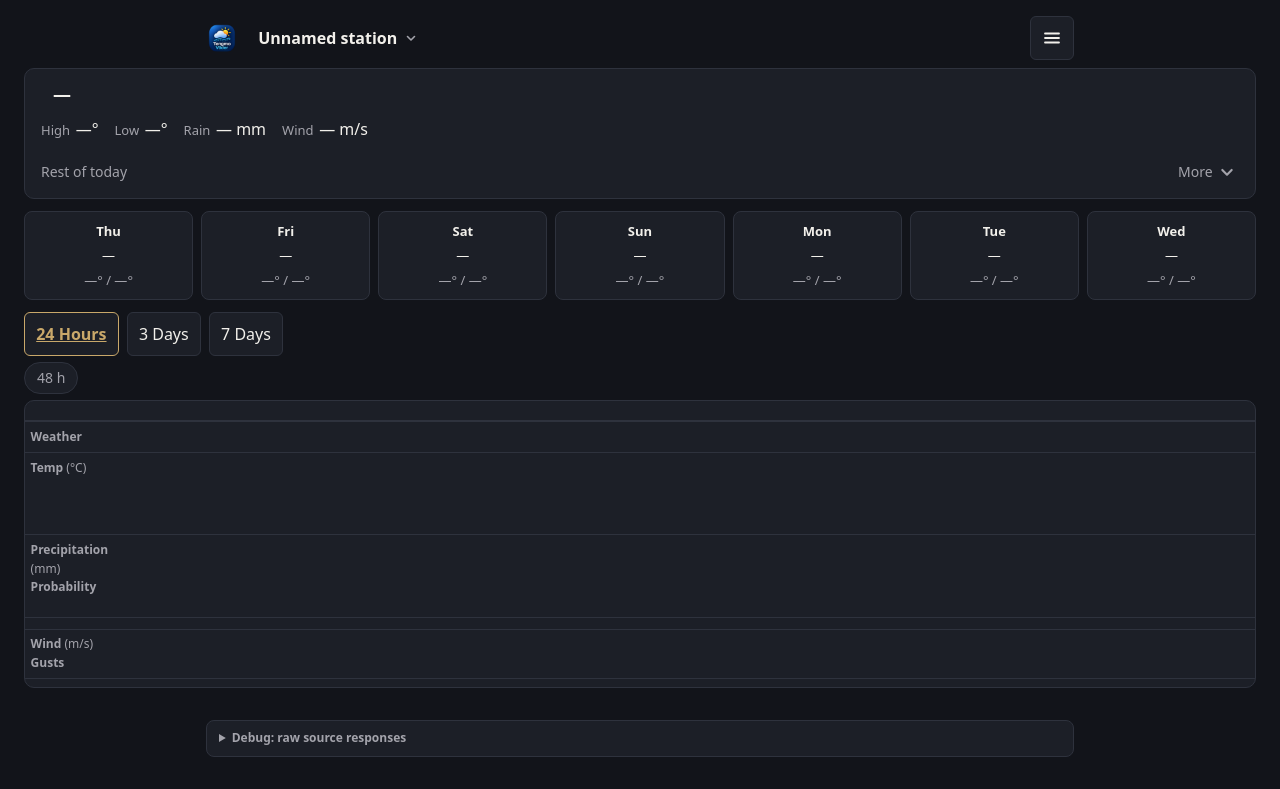
Test: Location Panel (013-overview-default-and-layout, US2) › selects a favorite from the panel, switches the app to it, and closes the panel
The image size is (1280, 789).
Click the button with aria-label "Change location".
click(338, 38)  # box x1=246 y1=16 x2=429 y2=60
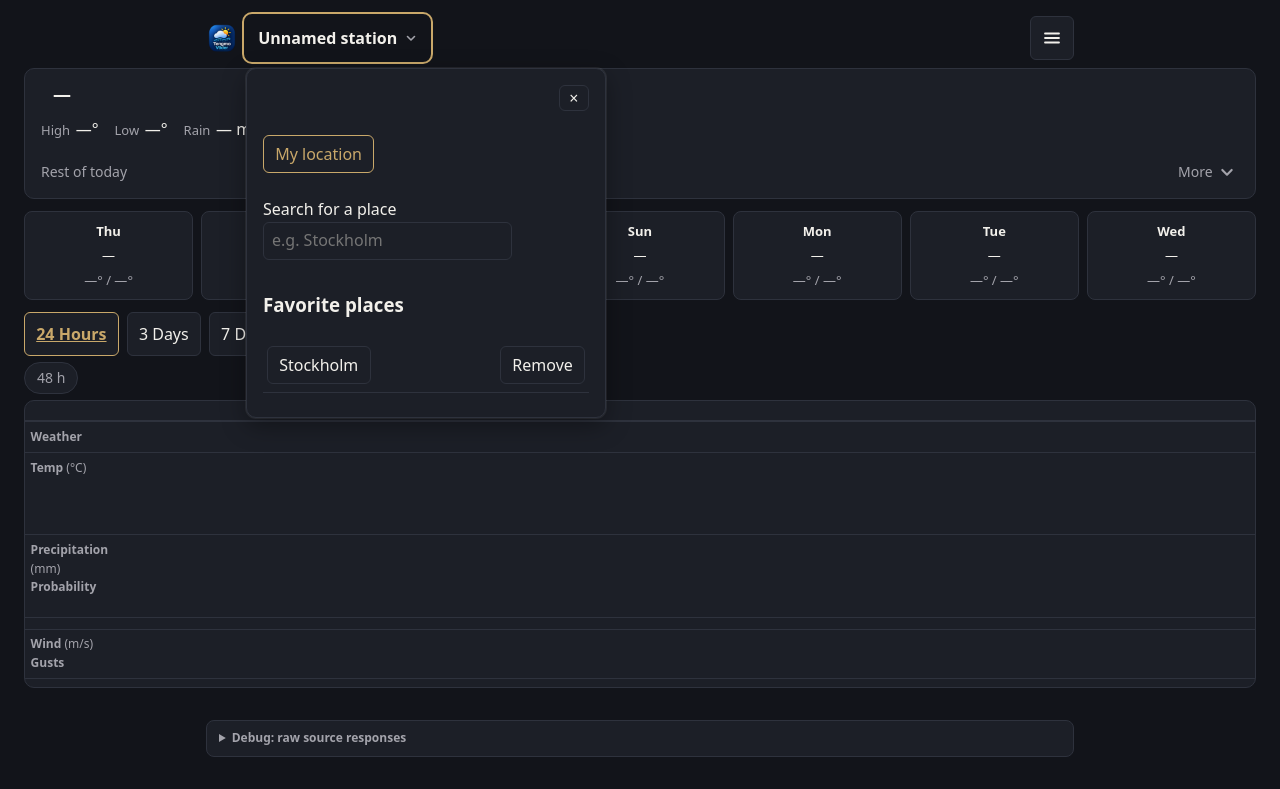
Click the button "Stockholm".
click(319, 365)  # box x1=267 y1=346 x2=370 y2=384
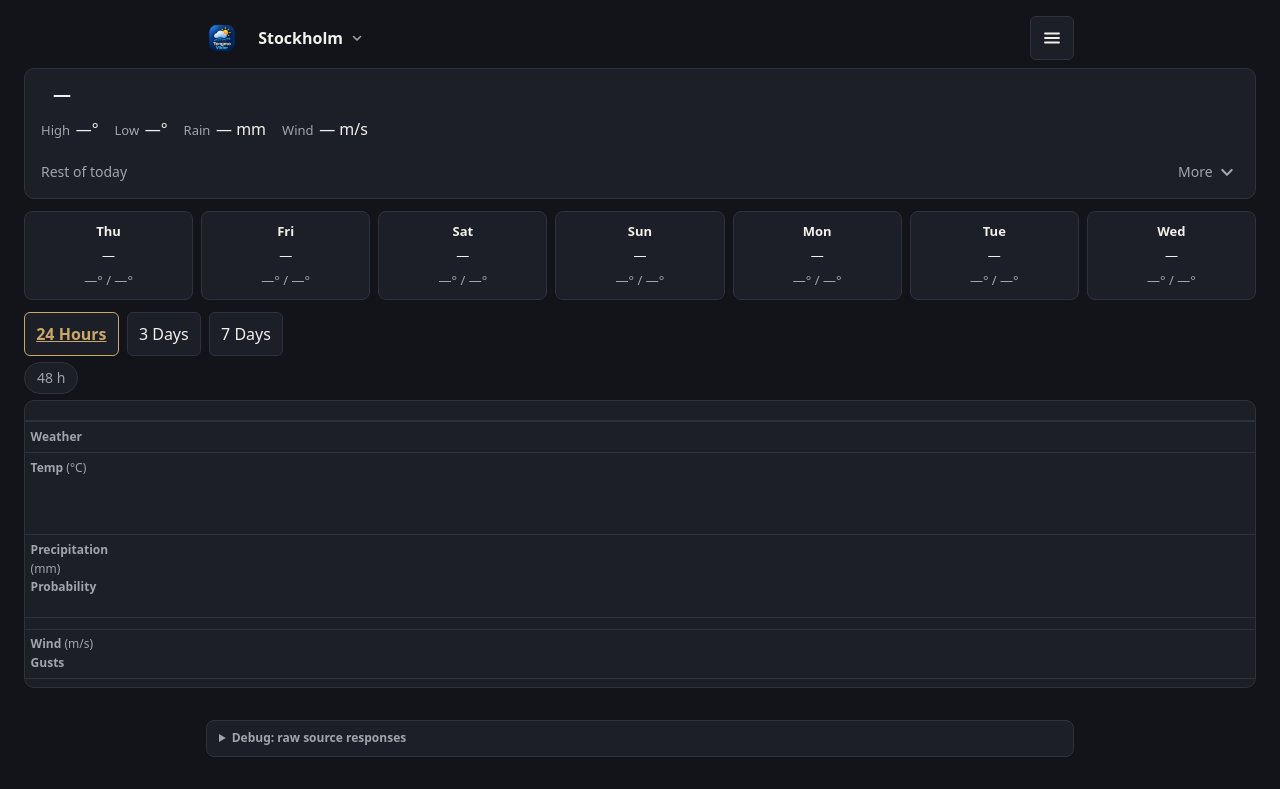
Now the label labelled "Search for a place" is gone
